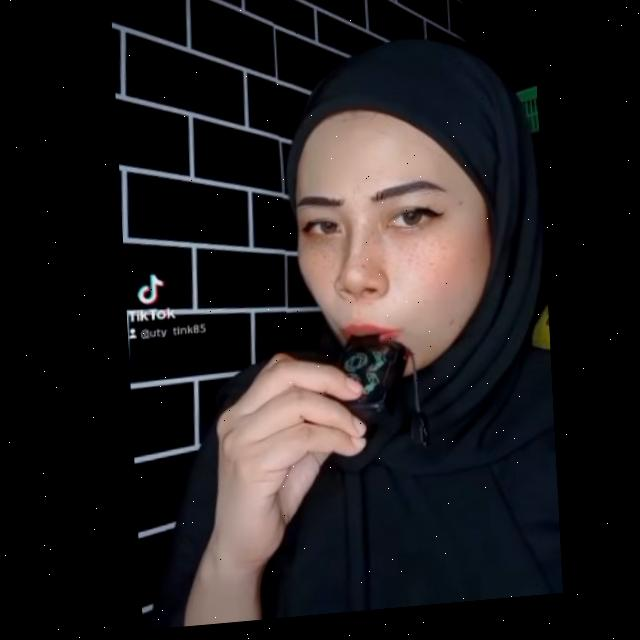vape: (316, 337, 407, 434)
